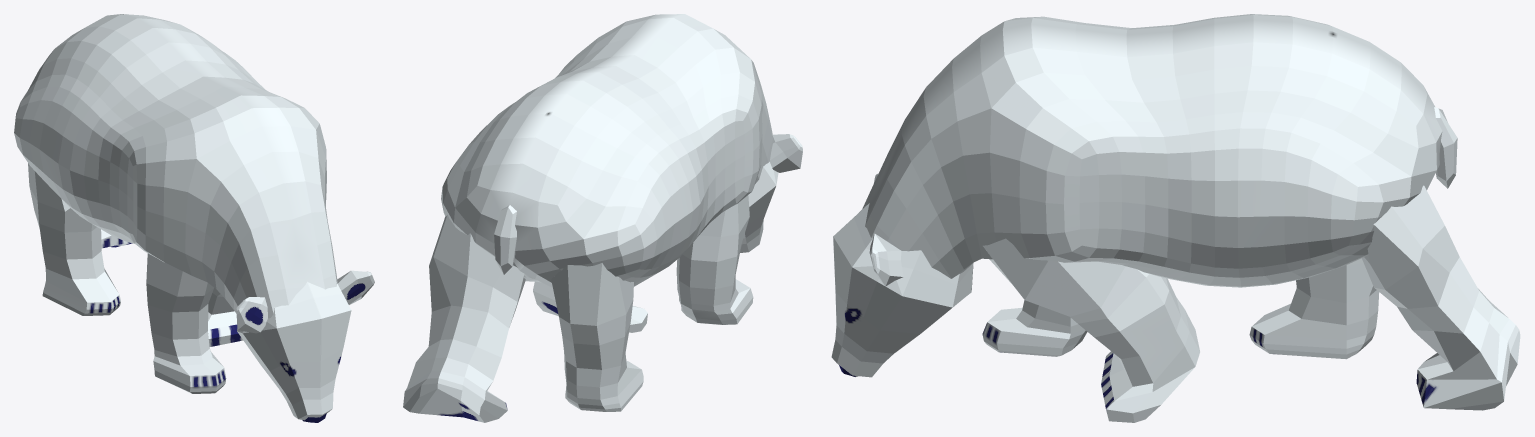
The model's file is Polar_Bear.fbx.
3 renders of one model, left to right at view 1: azimuth 30°, elevation 25°; view 2: azimuth 150°, elevation 25°; view 3: azimuth 270°, elevation 25°, orthographic. The views are drawn at different scales.
Visible parts, largest first — view 1: polar_bear; view 2: polar_bear; view 3: polar_bear.
Part boxes in pixels (x1=…): polar_bear: x1=14, y1=14, x2=374, y2=422; polar_bear: x1=403, y1=14, x2=802, y2=422; polar_bear: x1=831, y1=14, x2=1520, y2=422.
Bounding box in the file's own units: 213 × 278 × 490.
